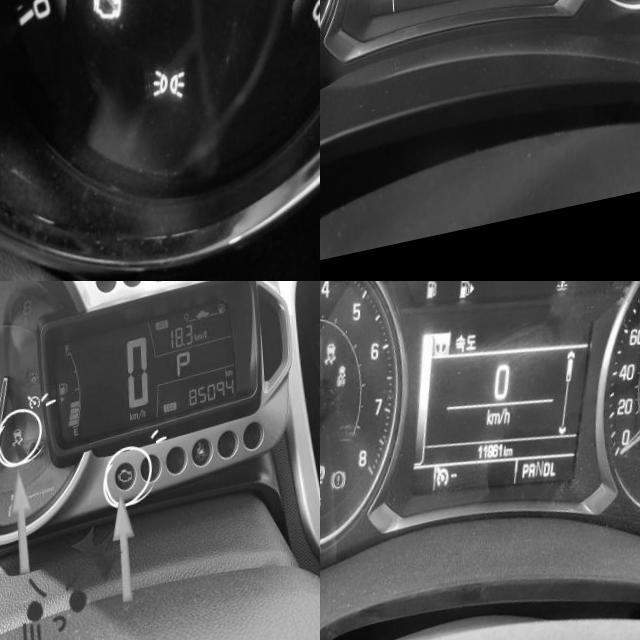Doors: (442, 0, 453, 14)
Low fuel level: (420, 291, 434, 314)
SideLamp: (143, 75, 180, 116)
